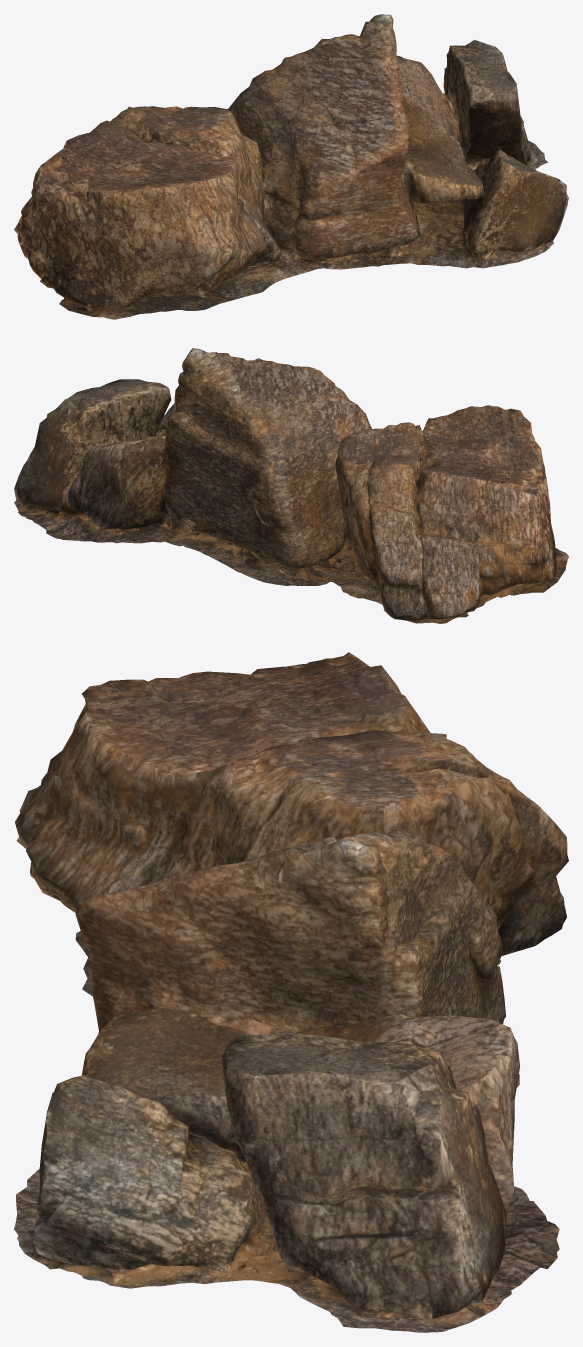
File: bg_boulder_02.glb
3 views of the same model, one above another, from view 1: azimuth 30°, elevation 25°; view 2: azimuth 150°, elevation 25°; view 3: azimuth 270°, elevation 25° (orthographic). The views are drawn at different scales.
Parts seen in each view (by area): view 1: bg_boulder_02; view 2: bg_boulder_02; view 3: bg_boulder_02.
Part boxes in pixels (bbox=[...]): bg_boulder_02: bbox=[14, 14, 568, 319]; bg_boulder_02: bbox=[14, 348, 568, 623]; bg_boulder_02: bbox=[14, 652, 568, 1332].
Bounding box in the file's own units: 3 × 1.04 × 1.46.
1 material, 1 textured.
